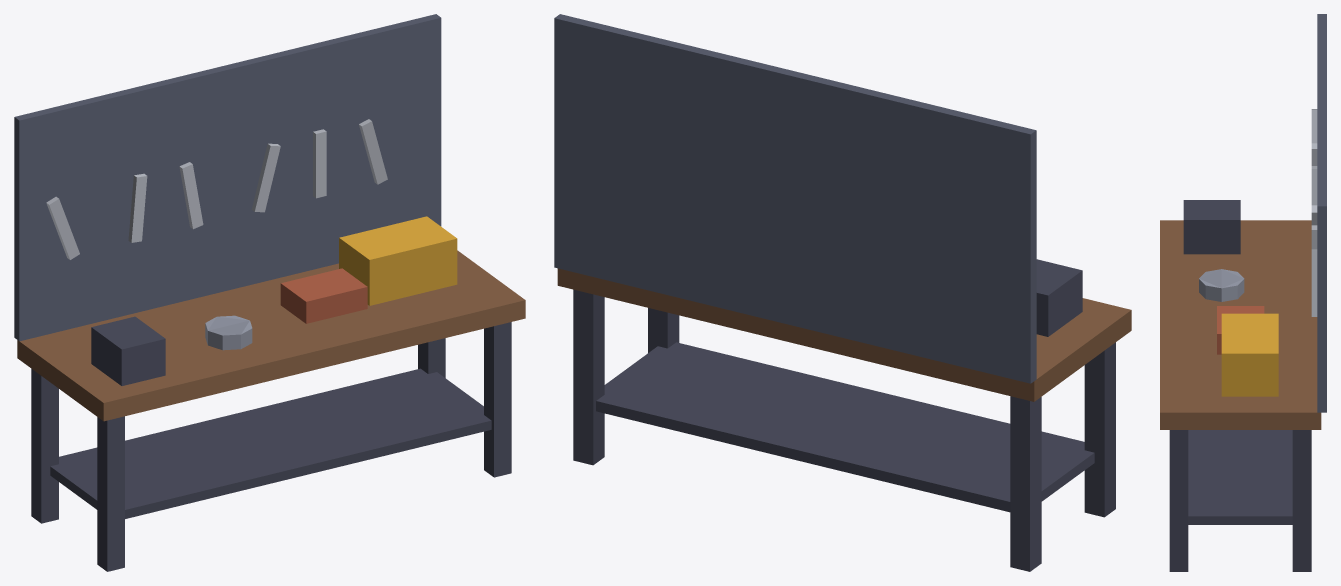
Rendered from Workbench.fbx.
3 renders of one model, left to right at view 1: azimuth 30°, elevation 25°; view 2: azimuth 150°, elevation 25°; view 3: azimuth 270°, elevation 25°, orthographic. The views are drawn at different scales.
Visible parts, largest first — view 1: Workbench; view 2: Workbench; view 3: Workbench.
Boxes of the visible parts, x1,y1,x2,y2 form: Workbench: (14,14,525,571); Workbench: (554,14,1131,571); Workbench: (1160,14,1326,571).
Size of the model in its own units: 2.4 by 2.15 by 0.88.
